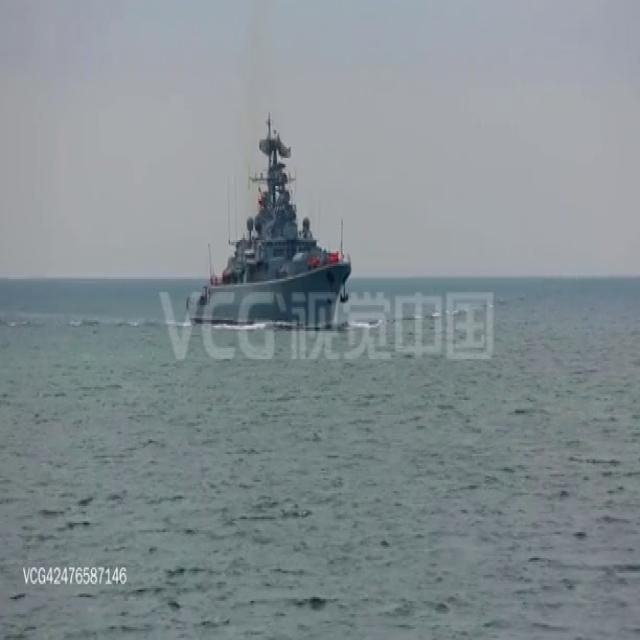navalvessels: (184, 99, 350, 326)
